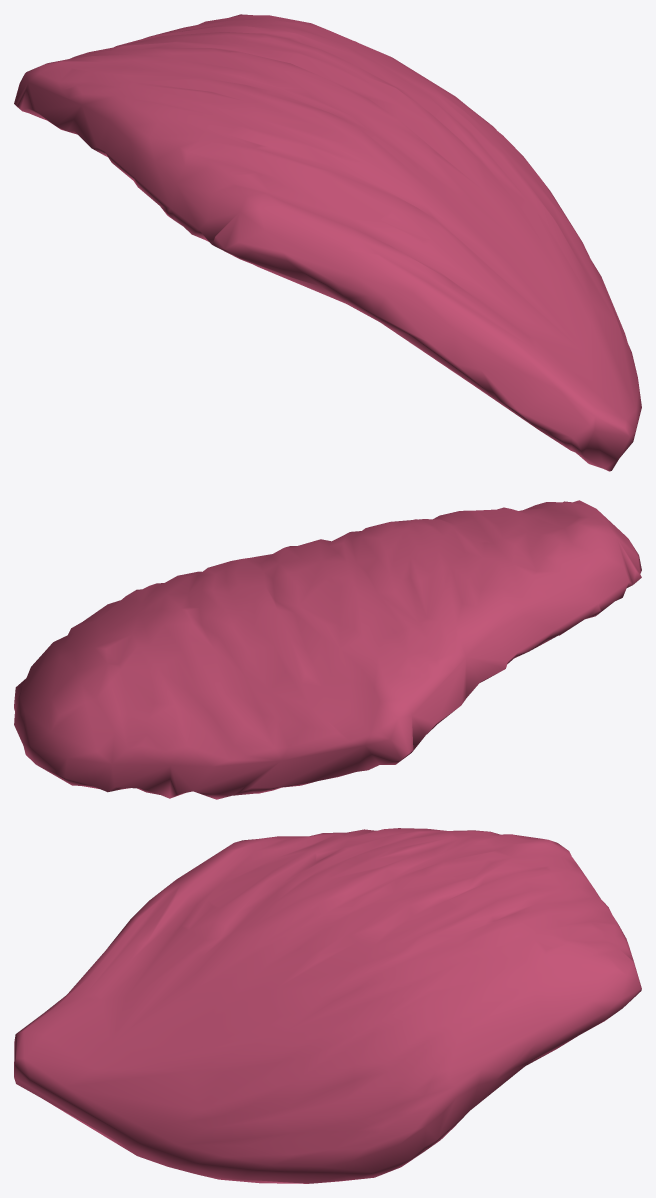
3 renders of one model, top to bottom at view 1: azimuth 30°, elevation 25°; view 2: azimuth 150°, elevation 25°; view 3: azimuth 270°, elevation 25°, orthographic. The views are drawn at different scales.
Visible parts, largest first — view 1: 左侧环杓后肌; view 2: 左侧环杓后肌; view 3: 左侧环杓后肌.
Part boxes in pixels (bbox=[...]): 左侧环杓后肌: bbox=[14, 14, 641, 471]; 左侧环杓后肌: bbox=[14, 500, 641, 799]; 左侧环杓后肌: bbox=[14, 828, 641, 1183].
Bounding box in the file's own units: 0.0134 × 0.00845 × 0.0212.
